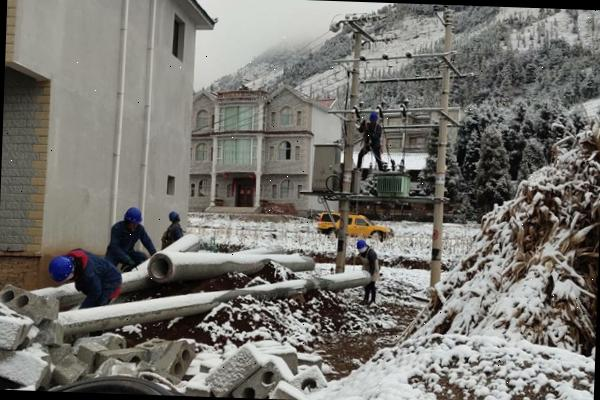helmet: (49, 256, 72, 286), (124, 206, 144, 224), (166, 209, 180, 222), (356, 240, 366, 251), (369, 111, 378, 121)
